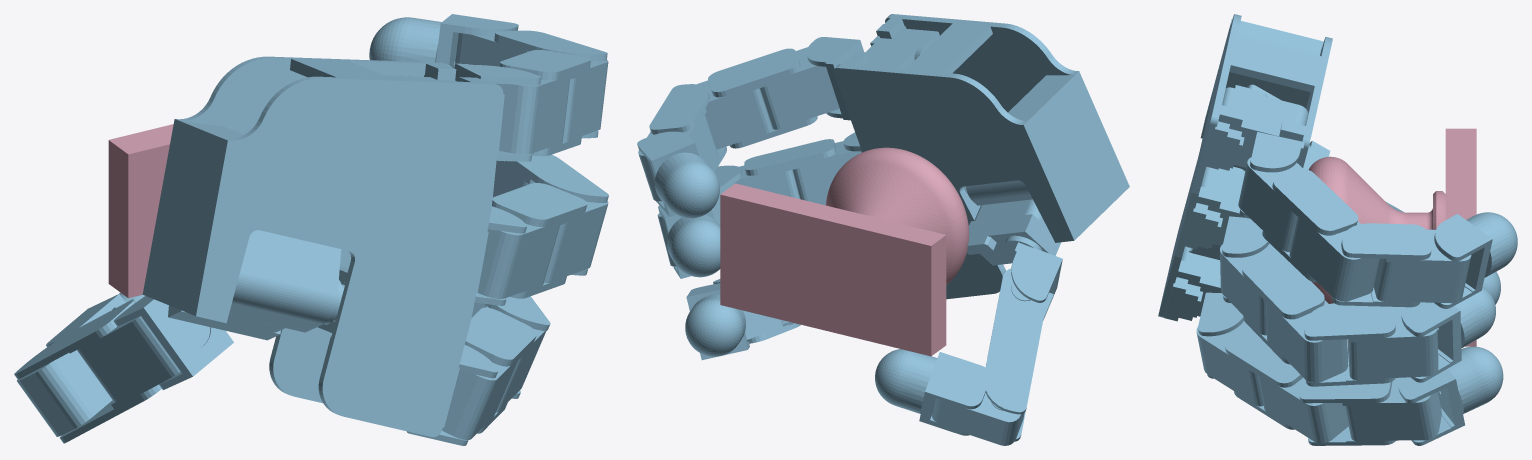
3 renders of one model, left to right at view 1: azimuth 30°, elevation 25°; view 2: azimuth 150°, elevation 25°; view 3: azimuth 270°, elevation 25°, orthographic. The views are drawn at different scales.
Parts seen in each view (by area): view 1: world; view 2: world; view 3: world.
Part boxes in pixels (x1=…): world: x1=14, y1=14, x2=608, y2=445; world: x1=637, y1=14, x2=1129, y2=445; world: x1=1158, y1=14, x2=1517, y2=445.
Size of the model in its own units: 0.1914 by 0.147 by 0.1445.
